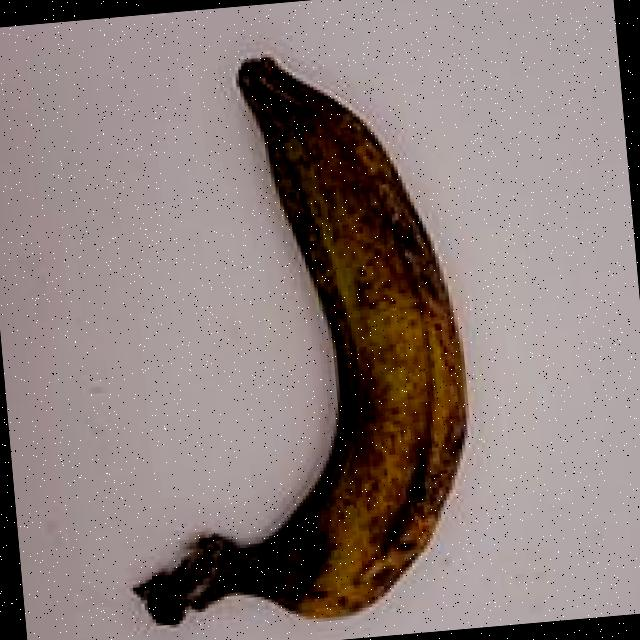Overripe: (59, 18, 510, 640)
